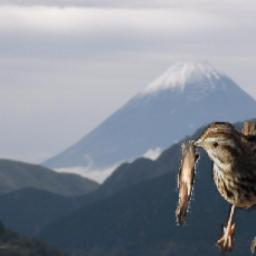Sparrow: (191, 122, 256, 256)
Swallow: (176, 140, 200, 226)
